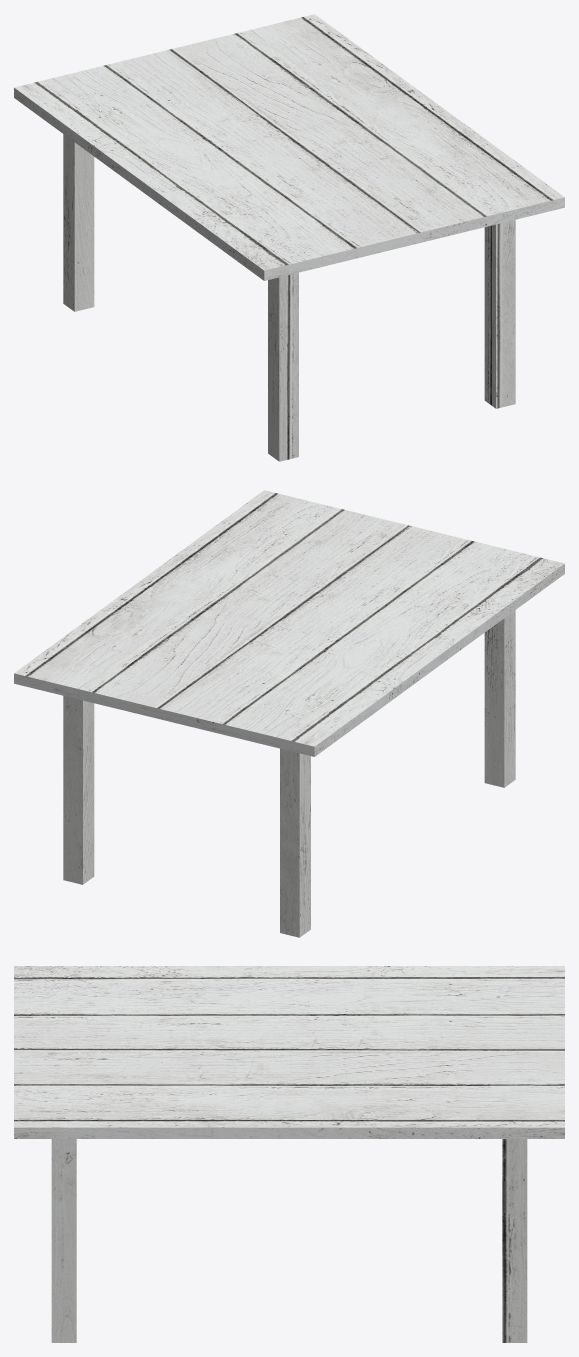
File: table.obj
The picture shows the model from 3 angles, top to bottom: view 1: azimuth 30°, elevation 25°; view 2: azimuth 150°, elevation 25°; view 3: azimuth 270°, elevation 25°; orthographic projection. The views are drawn at different scales.
Parts seen in each view (by area): view 1: Bein_2; view 2: Bein_2; view 3: Bein_2.
Part boxes in pixels (bbox=[...]): Bein_2: bbox=[14, 14, 564, 461]; Bein_2: bbox=[14, 490, 564, 937]; Bein_2: bbox=[14, 966, 564, 1342].
Bounding box in the file's own units: 21.25 × 14.27 × 30.63.
